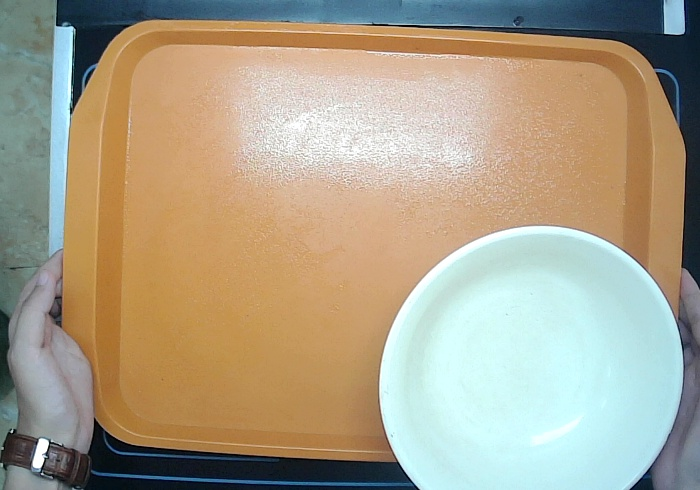ZNLD-Da_Tang_Wan: (376, 222, 687, 490)
